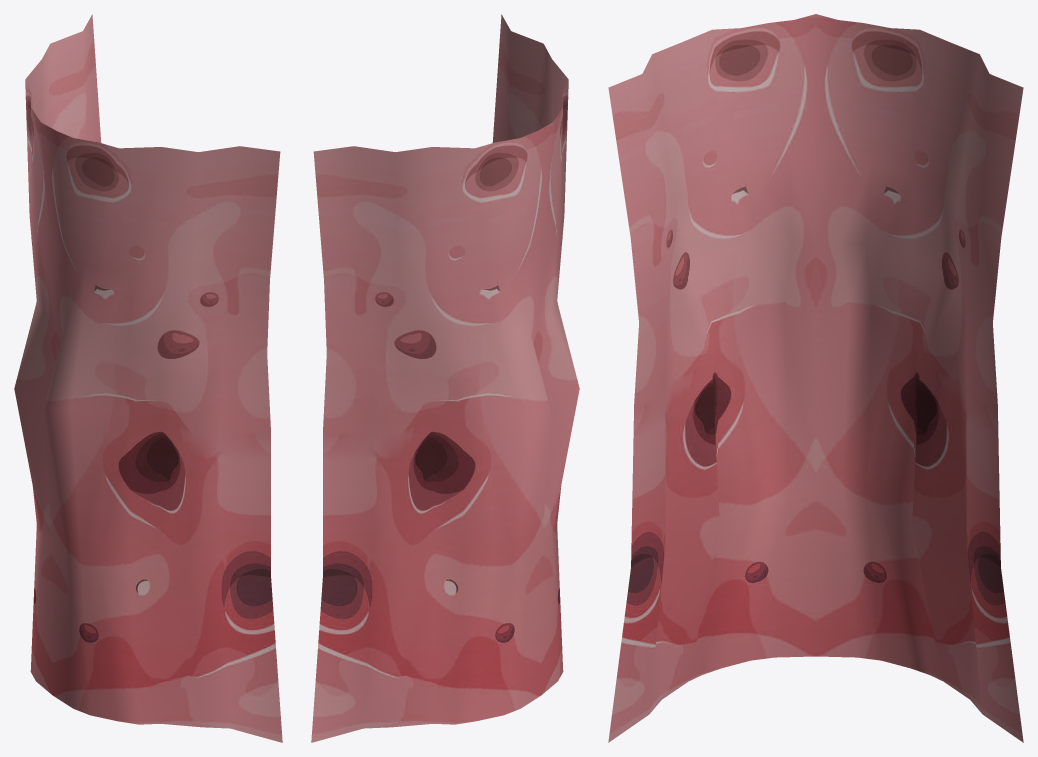
The model's file is tonnelModel.fbx.
3 renders of one model, left to right at view 1: azimuth 30°, elevation 25°; view 2: azimuth 150°, elevation 25°; view 3: azimuth 270°, elevation 25°, orthographic. The views are drawn at different scales.
Parts seen in each view (by area): view 1: Cylinder; view 2: Cylinder; view 3: Cylinder.
Boxes of the visible parts, x1,y1,x2,y2 form: Cylinder: (14,14,282,742); Cylinder: (311,14,579,742); Cylinder: (608,14,1023,742).
Size of the model in its own units: 158 by 560 by 322.
